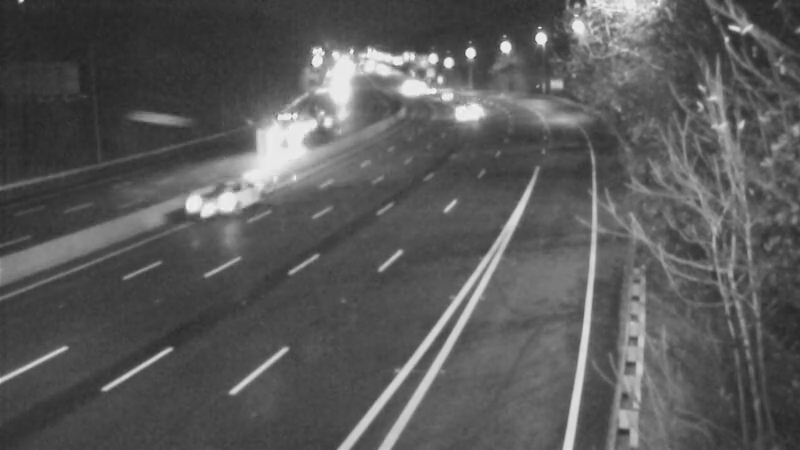vehicle: (193, 159, 273, 239), (401, 67, 451, 117), (420, 68, 470, 118), (446, 81, 496, 131), (270, 109, 320, 159)
